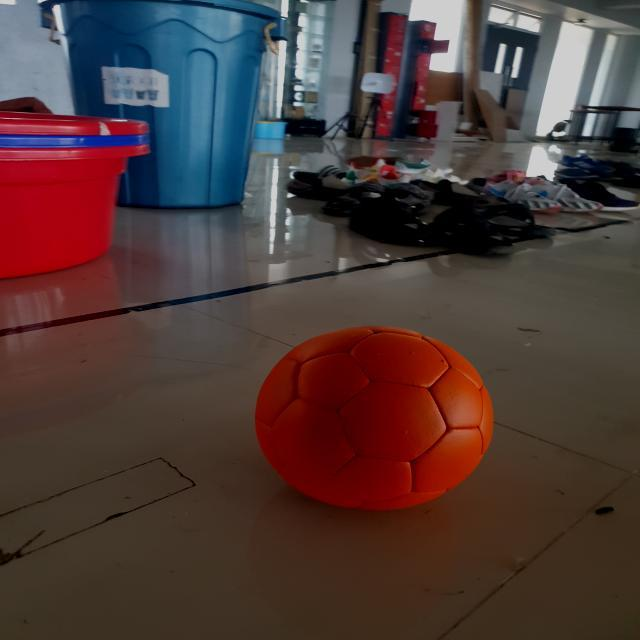bola: (250, 319, 500, 514)
